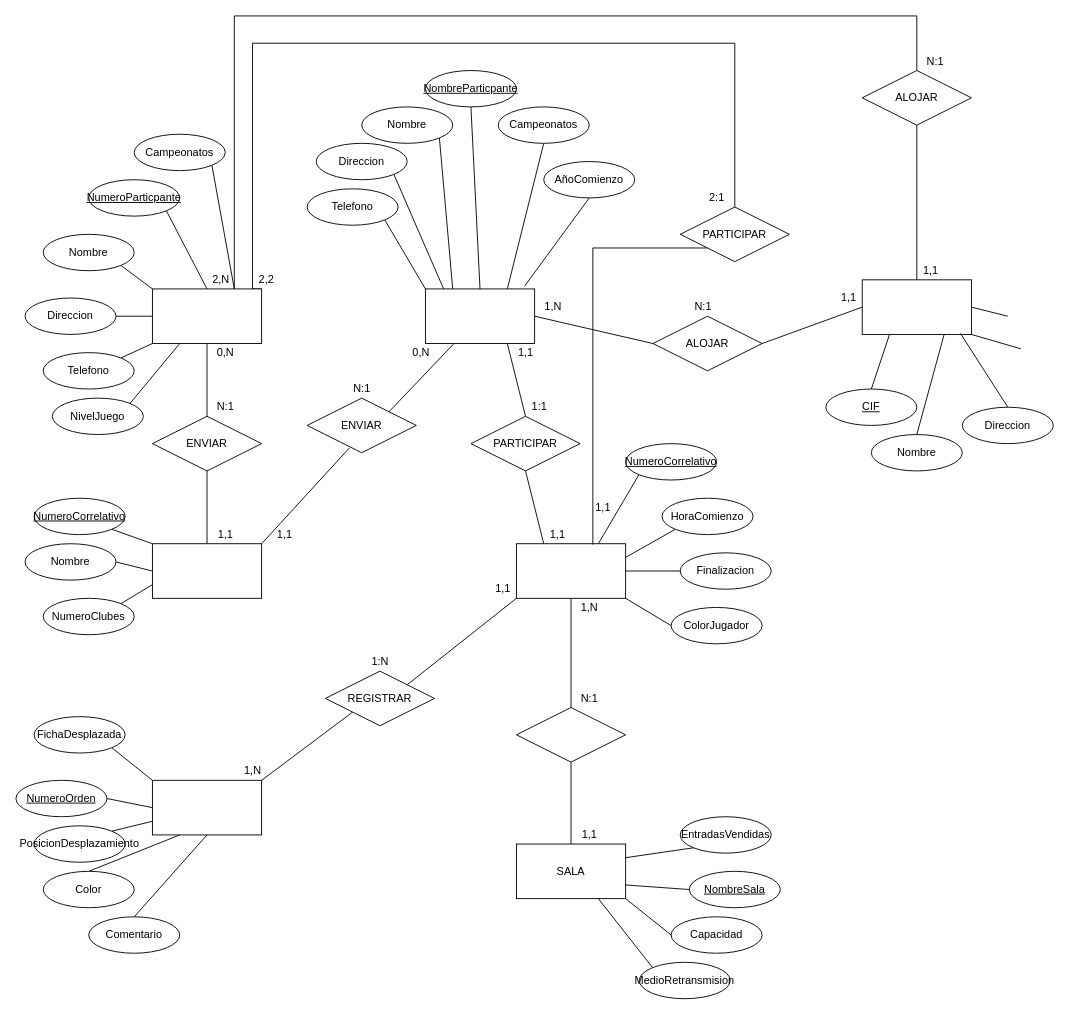
Image size: 1069x1015. Some labels were removed from this diagram. The centre of each missing label's shape, as x and y in pixels:
"ALBITRO" belongs at (480,316).
"CELEBRAR" belongs at (571,734).
"HOTEL" belongs at (916,306).
"JUGADOR" belongs at (207,316).
"MOVIMIENTOS" belongs at (207,807).
"PAIS" belongs at (207,570).
"PARTIDA" belongs at (571,570).
